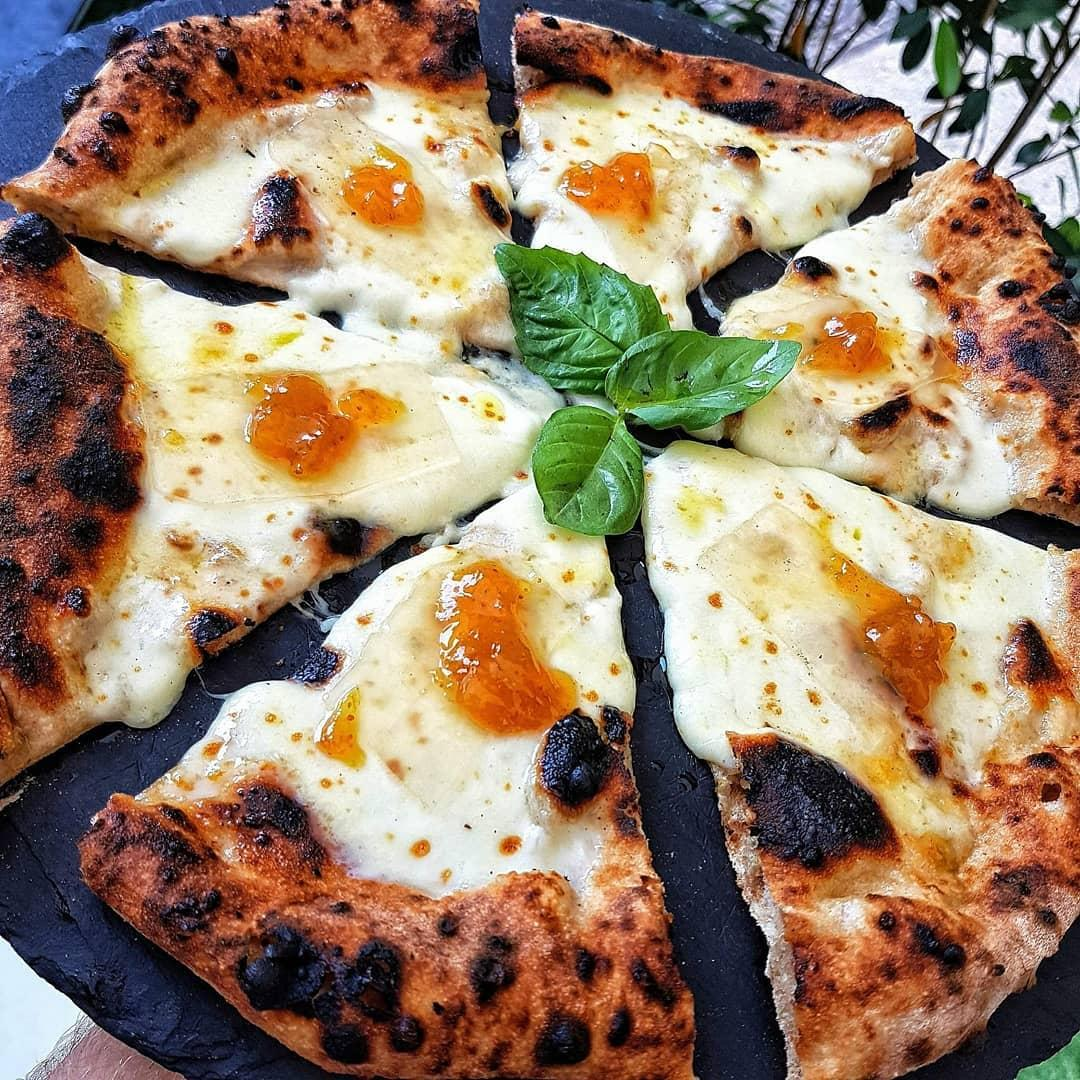Basil: (489, 239, 675, 400), (602, 325, 803, 433), (528, 400, 647, 539)
Pizza: (0, 0, 1080, 1080)
